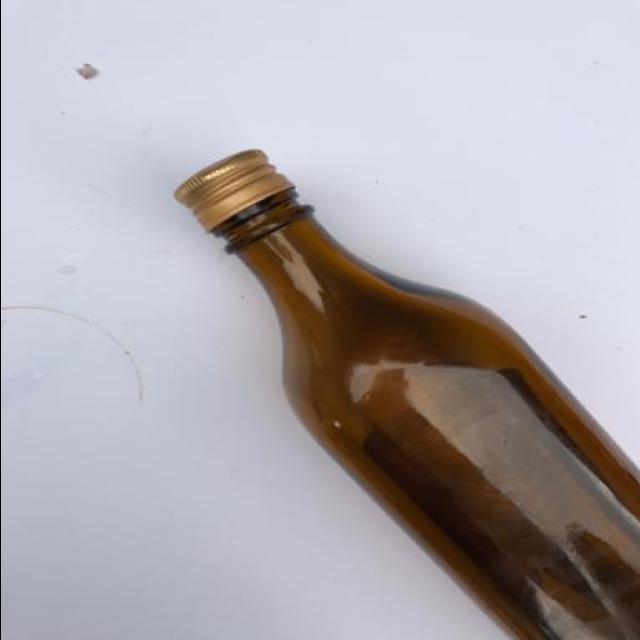litter: (168, 147, 638, 638)
